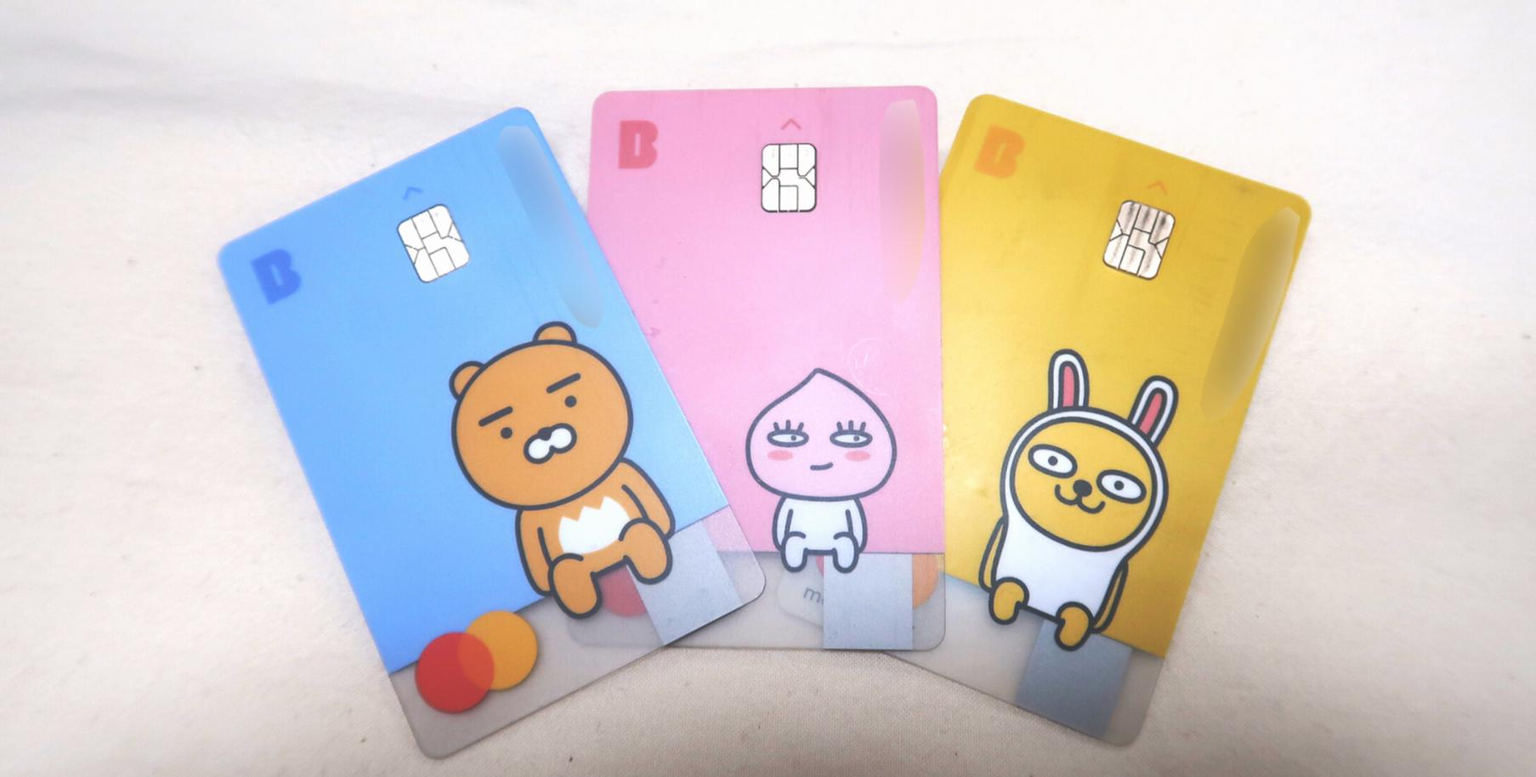Credit_card: (220, 109, 764, 757), (886, 95, 1310, 743), (587, 87, 946, 651)
